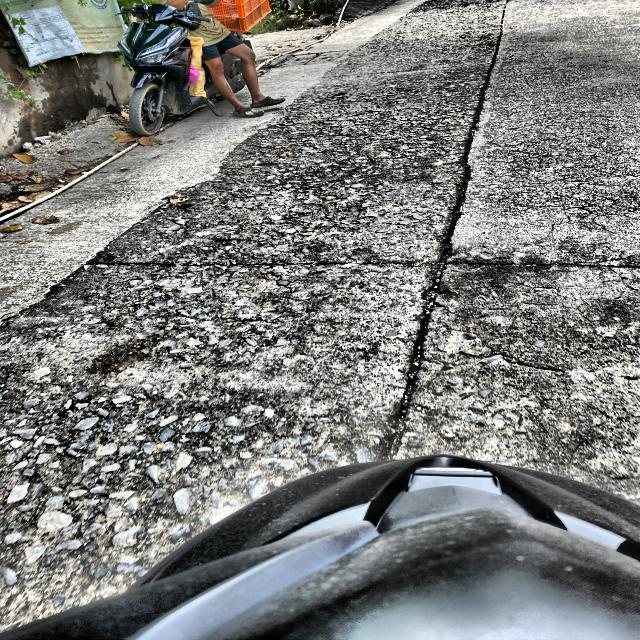major_scaling: (0, 42, 479, 599)
